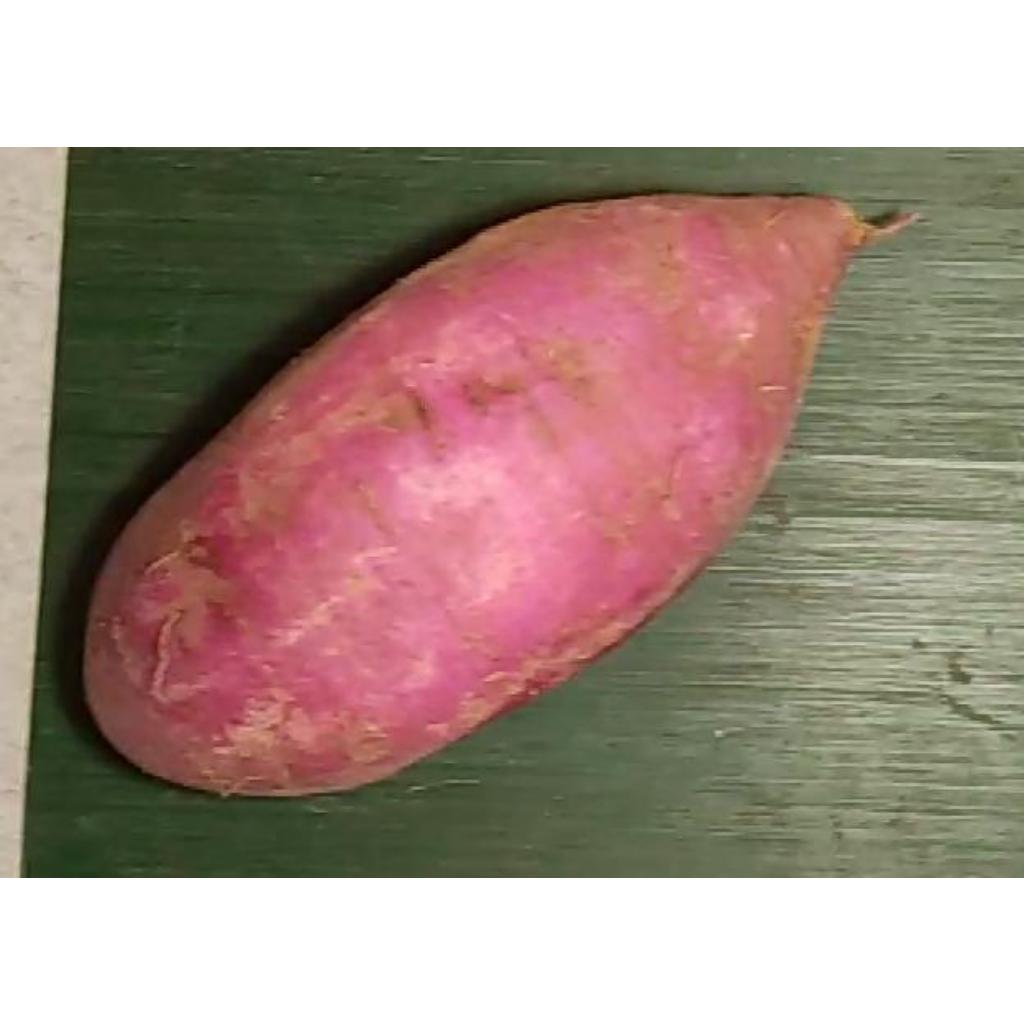Sweet Potato: (79, 192, 919, 802)
